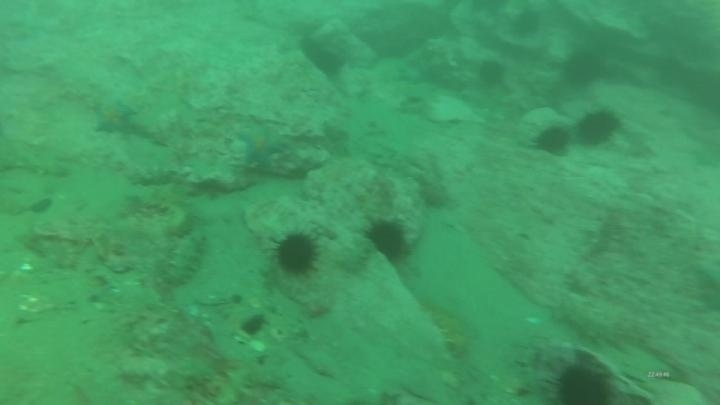echinus: (548, 361, 615, 404), (271, 229, 322, 279), (364, 216, 412, 266), (560, 46, 607, 90), (575, 106, 622, 149), (532, 123, 573, 158), (307, 45, 346, 80), (508, 7, 544, 41), (475, 57, 508, 90)
holothurian: (127, 183, 199, 240), (419, 291, 476, 361), (161, 228, 210, 289)
starfish: (234, 122, 287, 168), (90, 96, 138, 137), (690, 259, 720, 315)
